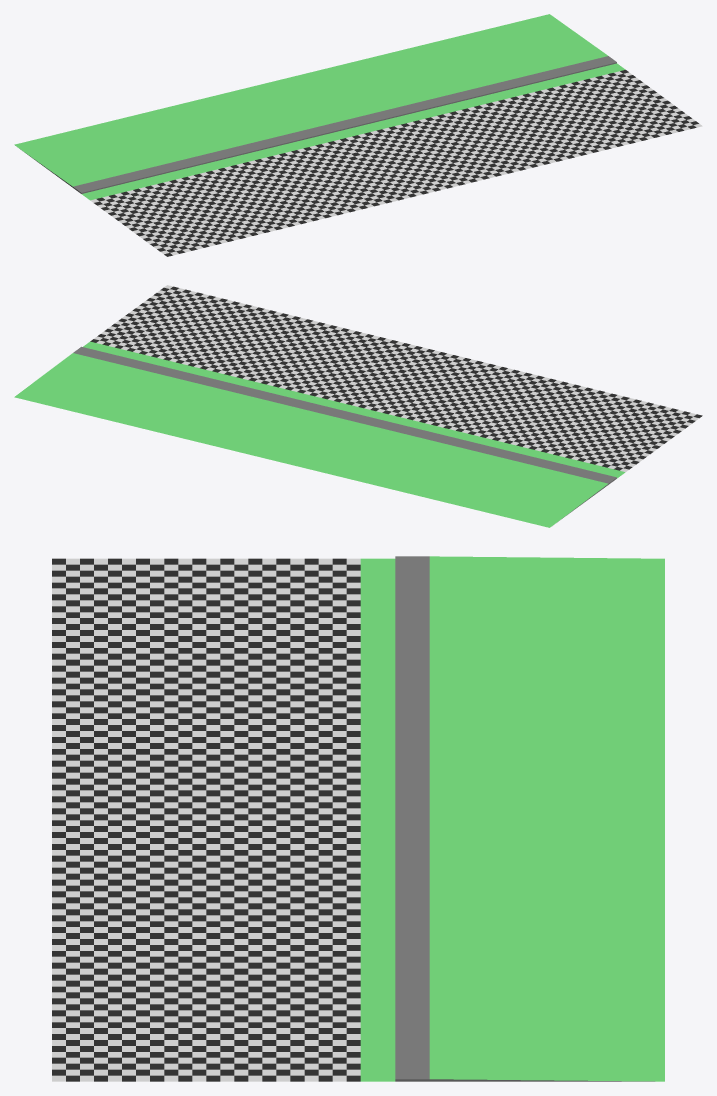
Rendered from Map6.fbx.
The picture shows the model from 3 angles, top to bottom: view 1: azimuth 30°, elevation 25°; view 2: azimuth 150°, elevation 25°; view 3: azimuth 270°, elevation 25°; orthographic projection. The views are drawn at different scales.
Visible parts, largest first — view 1: Level1.001; view 2: Level1.001; view 3: Level1.001.
Boxes of the visible parts, <box> form: Level1.001: <box>14,14,702,256</box>; Level1.001: <box>14,285,702,527</box>; Level1.001: <box>52,556,664,1081</box>.
Bounding box in the file's own units: 2400 × 5 × 1189.
